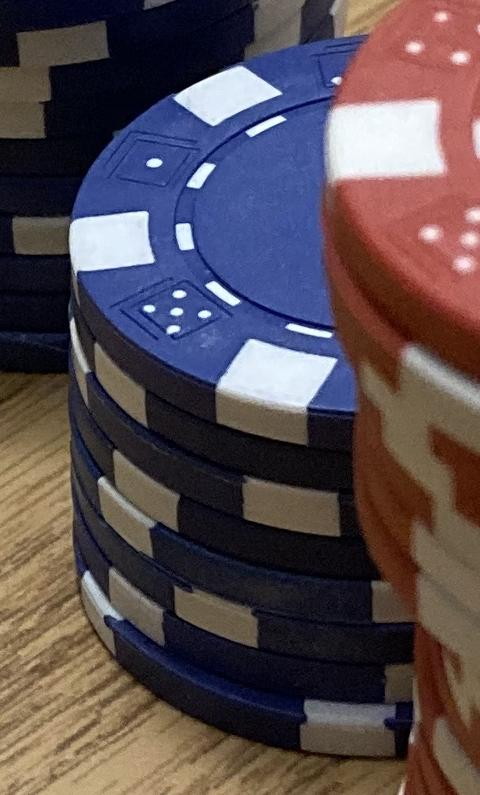Chip: (1, 1, 480, 795)
